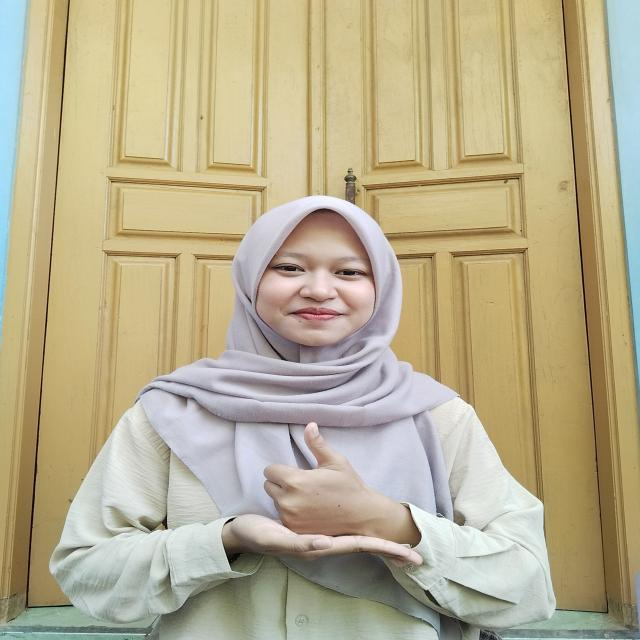cantik: (208, 411, 438, 584)
